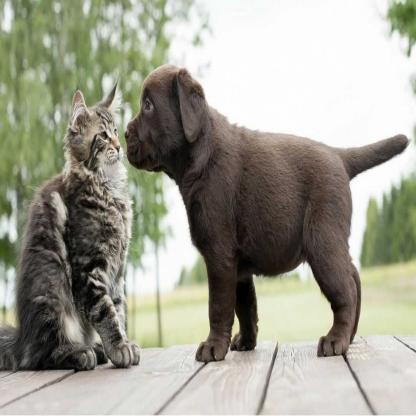cat: (50, 75, 128, 202)
dog: (127, 54, 254, 209)
